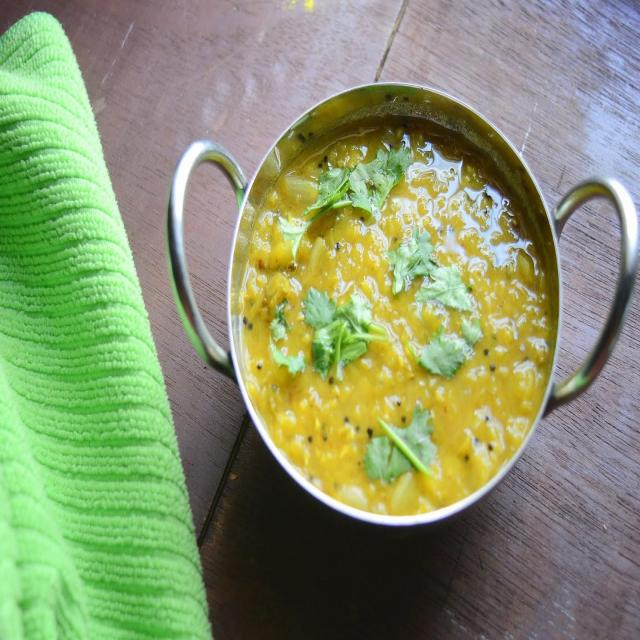dal: (252, 122, 532, 520)
